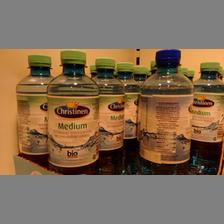Wasser: (132, 48, 192, 174), (46, 49, 98, 173), (14, 53, 54, 159), (88, 56, 124, 172), (190, 61, 222, 172)
